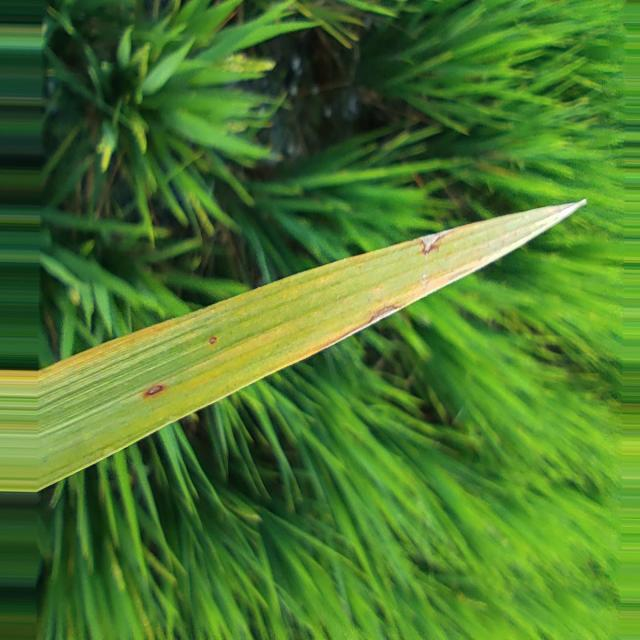Brown_Spot: (420, 230, 451, 255), (365, 307, 400, 327), (144, 383, 166, 398), (209, 335, 218, 345)
